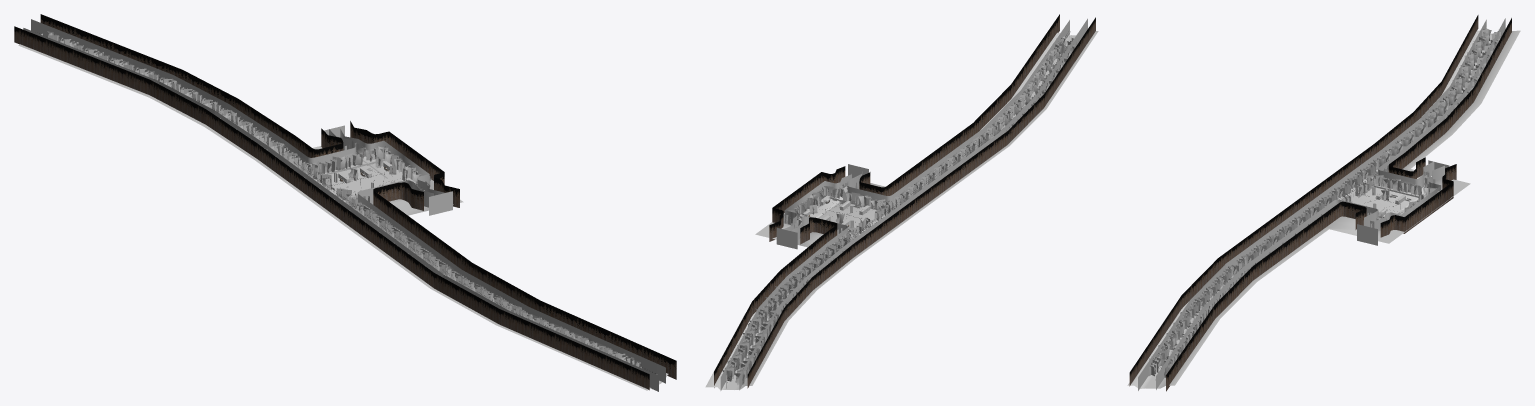
File: Trailer_Park.fbx
The picture shows the model from 3 angles, left to right: view 1: azimuth 30°, elevation 25°; view 2: azimuth 150°, elevation 25°; view 3: azimuth 330°, elevation 25°; orthographic projection. The views are drawn at different scales.
Visible parts, largest first — view 1: Background.011, Background.007, Background.010, Background.003, Background.006, Background.004, Background.009, Terrain, Background.001, Background, Background.008, Terrain.002 (+2 smaller); view 2: Background.003, Background.011, Background.010, Background.004, Terrain, Background.007, Background.006, Terrain.001, Background, Terrain.002, Background.008, Background.009 (+3 smaller); view 3: Background.003, Background.010, Background.011, Terrain, Background.004, Background.006, Terrain.002, Terrain.001, Background.007, Background.009, Background.008, Background (+3 smaller).
Boxes of the visible parts, x1,y1,x2,y2 form: Background.011: (352, 213, 649, 390); Background.007: (14, 26, 257, 158); Background.010: (391, 204, 676, 379); Background.003: (295, 121, 459, 217); Background.006: (40, 14, 295, 147); Background.004: (285, 125, 452, 215); Background.009: (380, 210, 665, 383); Terrain: (256, 146, 463, 228); Background.001: (31, 19, 285, 145); Background: (257, 144, 351, 227); Background.008: (361, 214, 658, 391); Terrain.002: (349, 228, 668, 390); Background.003: (769, 166, 901, 247); Background.011: (935, 17, 1095, 197); Background.010: (901, 14, 1059, 187); Background.004: (776, 164, 911, 249); Terrain: (755, 183, 937, 258); Background.007: (747, 245, 852, 388); Background.006: (714, 236, 821, 387); Terrain.001: (705, 258, 855, 389); Background: (852, 184, 935, 258); Terrain.002: (935, 31, 1098, 198); Background.008: (927, 18, 1087, 189); Background.009: (911, 20, 1069, 185); Background.003: (1324, 153, 1456, 237); Background.010: (1166, 214, 1324, 391); Background.011: (1129, 205, 1290, 386); Terrain: (1325, 167, 1470, 243); Background.004: (1314, 154, 1449, 245); Background.006: (1404, 18, 1511, 166); Terrain.002: (1127, 228, 1328, 388); Terrain.001: (1405, 30, 1520, 168); Background.007: (1373, 15, 1478, 154); Background.009: (1156, 215, 1314, 389); Background.008: (1138, 210, 1298, 390); Background: (1290, 144, 1373, 215).
Size of the model in its own units: 17179 by 2199 by 89421.
